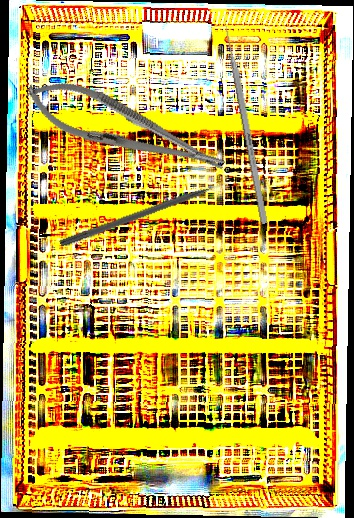Needle Holder: (18, 66, 233, 192)
Pusher: (58, 176, 237, 250), (220, 13, 269, 225)
